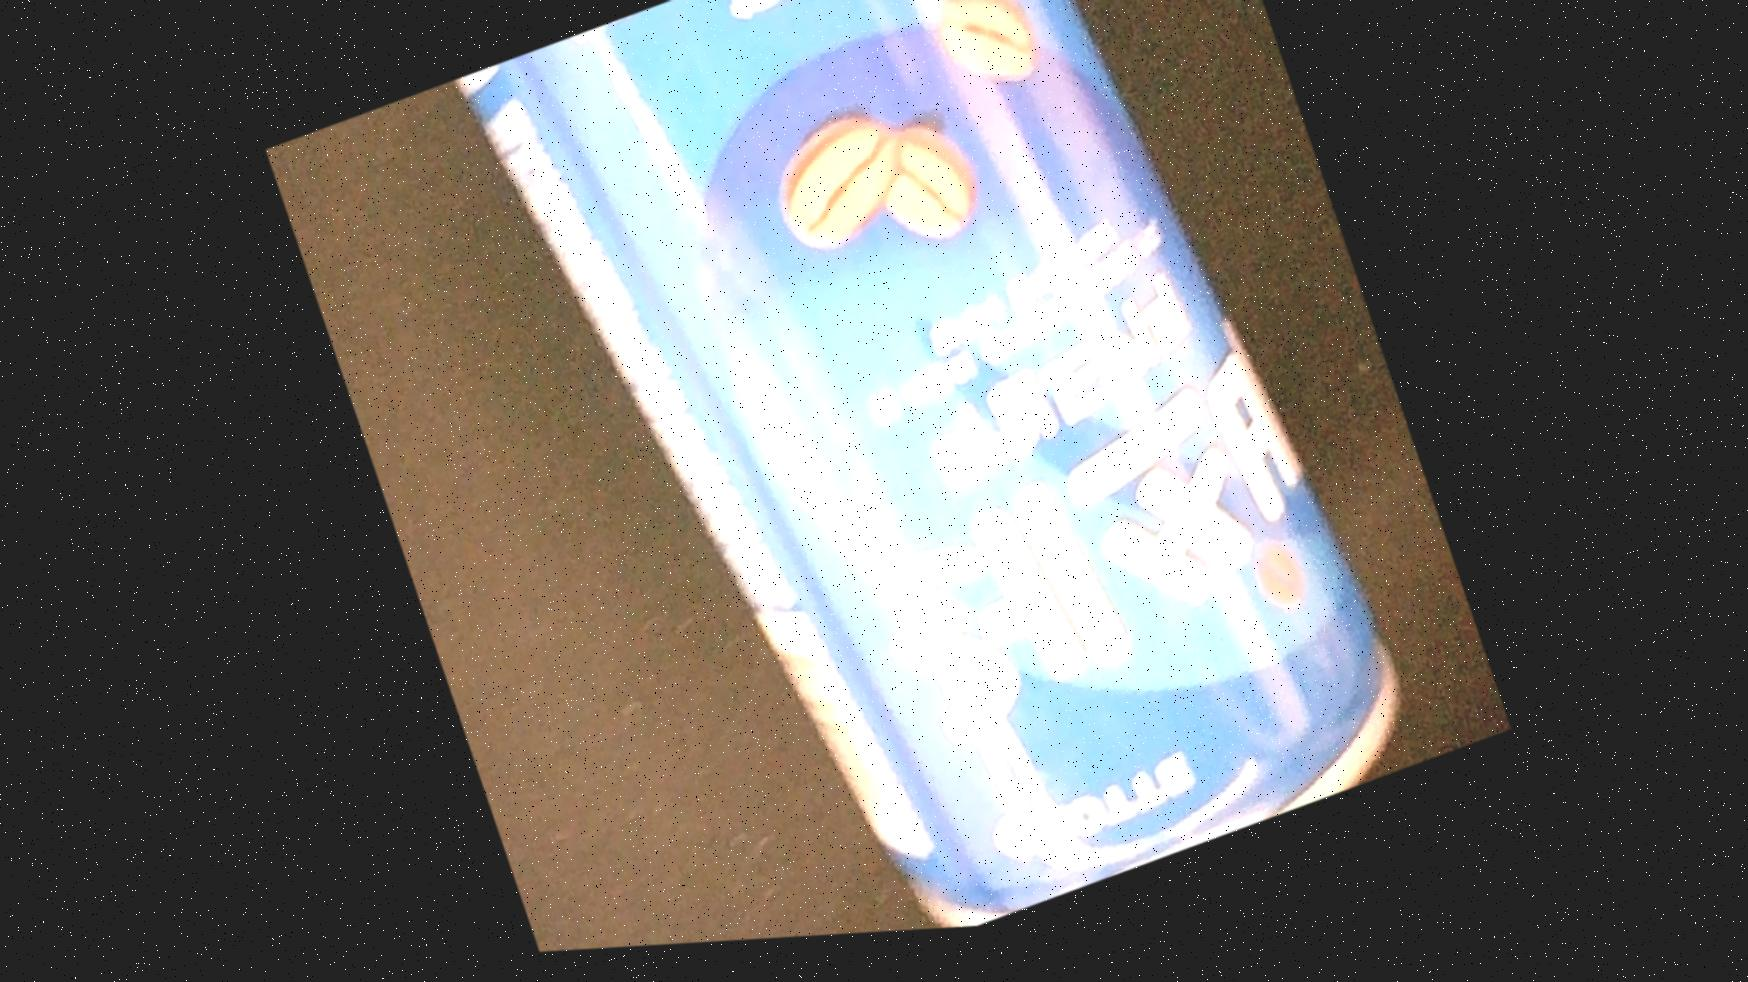letsbe: (441, 0, 1427, 962)
